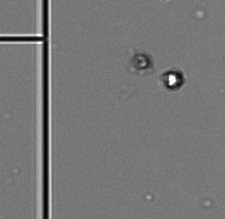Dead Cell: (132, 52, 152, 71)
Living Cell: (162, 67, 186, 90)
